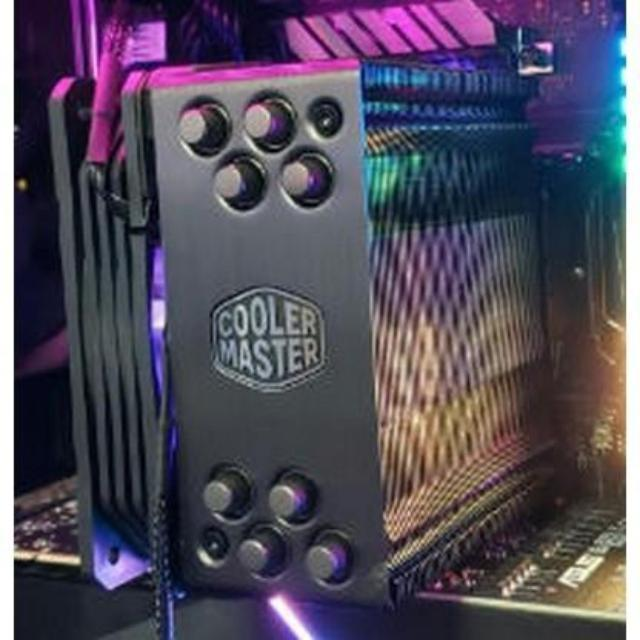CPU_Fan: (47, 69, 559, 608)
